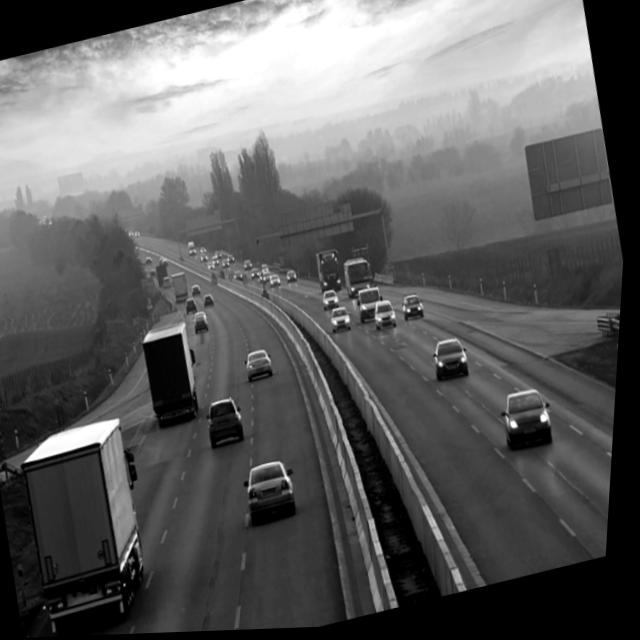cleat: (42, 109, 620, 636)
